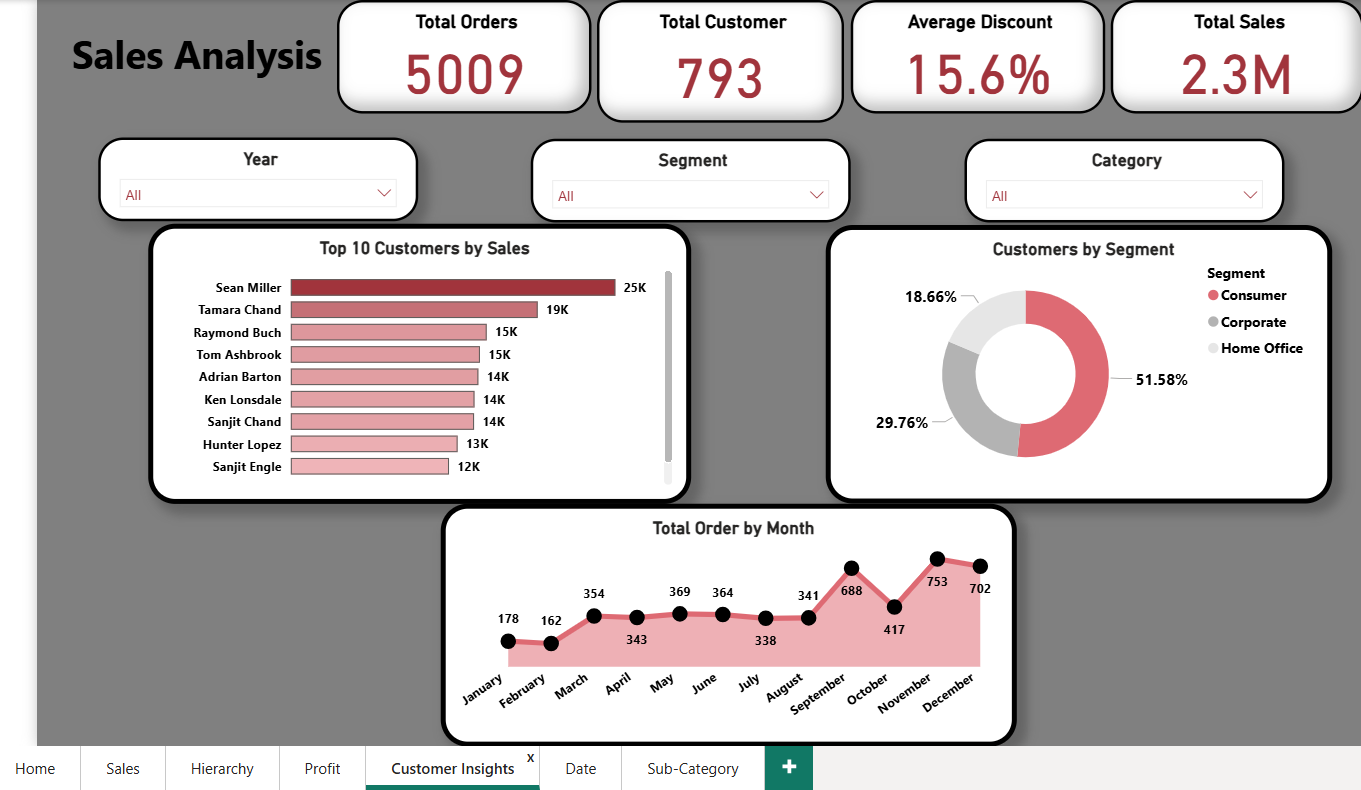

The dashboard page shown, as its layout file describes it:
{"tool":"powerbi","page":{"name":"Customer Insights","canvas":[1280,720],"ordinal":4},"visuals":[{"type":"card","title":"Total Orders","fields":{"Values":["DAXmeasure.T_order"]},"box":[289.5,0,245.6,109.8],"z":0},{"type":"card","title":"Total Customer","fields":{"Values":["DAXmeasure.T_customer"]},"box":[540.7,0,238.8,118],"z":1000},{"type":"card","title":"Average Discount","fields":{"Values":["DAXmeasure.AVG_discount"]},"box":[784.9,0,245.6,109.8],"z":2000},{"type":"card","title":"Total Sales","fields":{"Values":["DAXmeasure.T_sales"]},"box":[1035.7,0,244.3,109.8],"z":3000},{"type":"slicer","title":"Year","fields":{"Values":["DateDim.Order Date.Variation.Date Hierarchy.Quarter"]},"box":[59,133.1,308.7,81],"z":4000},{"type":"slicer","title":"Segment","fields":{"Values":["CustomerDim.Segment"]},"box":[476.2,134.5,308.7,81],"z":5000},{"type":"slicer","title":"Category","fields":{"Values":["DateDim.Order Date.Variation.Date Hierarchy.Year"]},"box":[894.7,134.5,308.7,81],"z":6000},{"type":"textbox","box":[0,22,308.7,150.9],"z":7000},{"type":"barChart","title":"Top 10 Customers by Sales","fields":{"Y":["DAXmeasure.T_sales"],"Category":["CustomerDim.Customer Name"]},"box":[107,215.4,524.2,270.3],"z":8000},{"type":"donutChart","title":"Customers by Segment","fields":{"Category":["CustomerDim.Segment"],"Y":["DAXmeasure.T_customer"]},"box":[761.6,216.8,488.5,269],"z":9000},{"type":"lineChart","title":"Total Order by Month","fields":{"Y":["DAXmeasure.T_order"],"Category":["DateDim.Order Date.Variation.Date Hierarchy.Month"]},"box":[389.7,485.8,555.7,234.6],"z":9001}]}

Visuals, with their boxes on the page's 1280x720 design canvas (x1, y1, x2, y2). These are canvas units, not pixel positions in the 1361x790 screenshot, which may show the page scaled, cropped or inside an application window:
"Total Orders" card: {"left": 290, "top": 0, "right": 535, "bottom": 110}
"Total Customer" card: {"left": 541, "top": 0, "right": 780, "bottom": 118}
"Average Discount" card: {"left": 785, "top": 0, "right": 1030, "bottom": 110}
"Total Sales" card: {"left": 1036, "top": 0, "right": 1280, "bottom": 110}
"Year" slicer: {"left": 59, "top": 133, "right": 368, "bottom": 214}
"Segment" slicer: {"left": 476, "top": 134, "right": 785, "bottom": 216}
"Category" slicer: {"left": 895, "top": 134, "right": 1203, "bottom": 216}
textbox: {"left": 0, "top": 22, "right": 309, "bottom": 173}
"Top 10 Customers by Sales" barChart: {"left": 107, "top": 215, "right": 631, "bottom": 486}
"Customers by Segment" donutChart: {"left": 762, "top": 217, "right": 1250, "bottom": 486}
"Total Order by Month" lineChart: {"left": 390, "top": 486, "right": 945, "bottom": 720}
